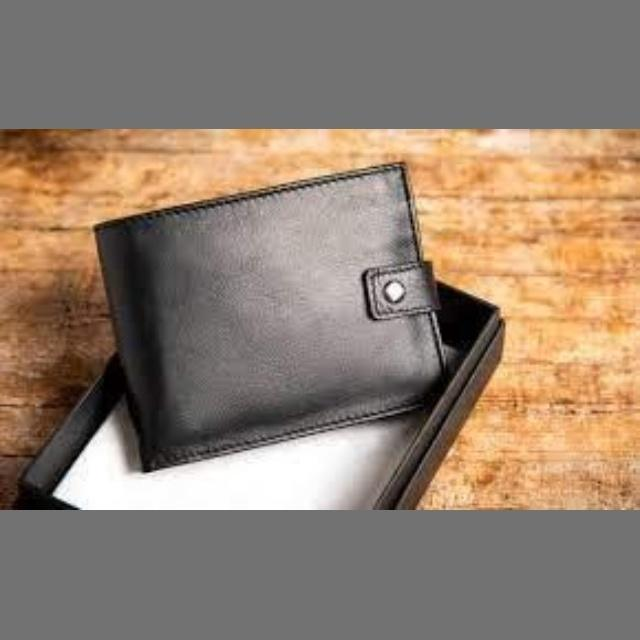Wallet: (68, 152, 520, 464)
